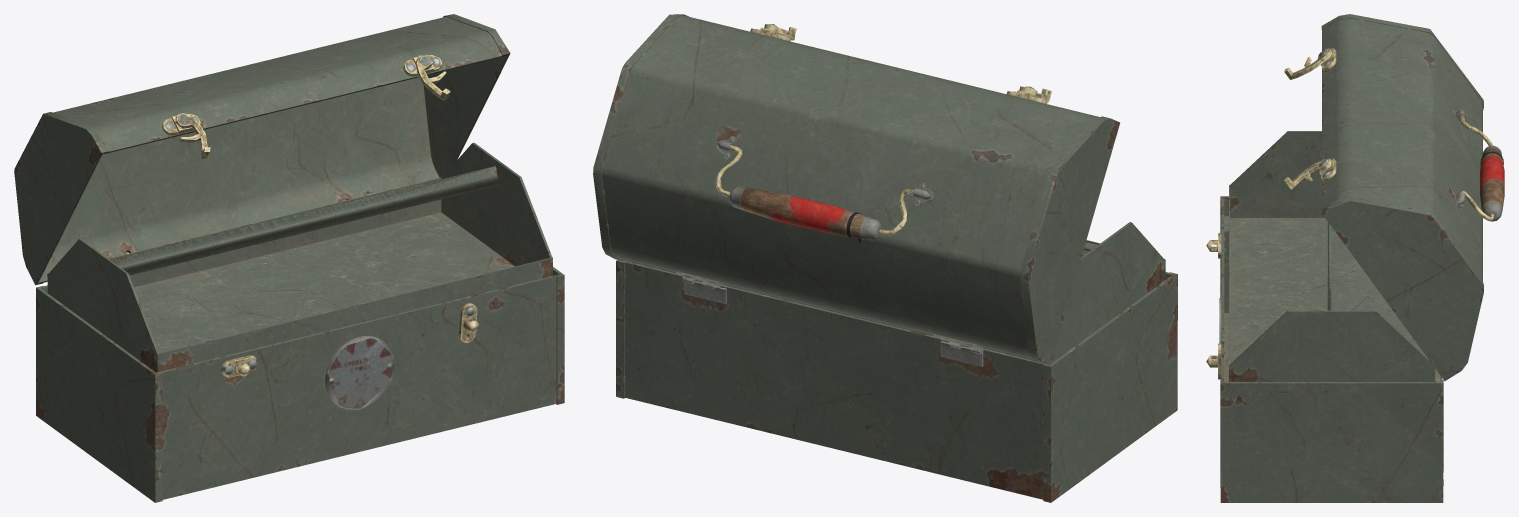
File: metal_toolbox.gltf
The picture shows the model from 3 angles, left to right: view 1: azimuth 30°, elevation 25°; view 2: azimuth 150°, elevation 25°; view 3: azimuth 270°, elevation 25°; orthographic projection. The views are drawn at different scales.
Parts seen in each view (by area): view 1: metal_toolbox_lid, metal_toolbox, metal_toolbox_tray; view 2: metal_toolbox_lid, metal_toolbox, metal_toolbox_tray, metal_toolbox_handle; view 3: metal_toolbox_lid, metal_toolbox_tray, metal_toolbox, metal_toolbox_handle, metal_toolbox_handle_latch_l, metal_toolbox_handle_latch_r.
Part boxes in pixels (x1,y1,x2,y2): metal_toolbox_lid: (14,14,510,285); metal_toolbox: (36,267,564,502); metal_toolbox_tray: (47,142,552,372); metal_toolbox_lid: (593,14,1119,365); metal_toolbox: (616,260,1177,502); metal_toolbox_tray: (628,222,1165,363); metal_toolbox_handle: (715,145,913,243); metal_toolbox_lid: (1319,14,1483,381); metal_toolbox_tray: (1229,131,1434,381); metal_toolbox: (1206,196,1443,502); metal_toolbox_handle: (1460,114,1504,221); metal_toolbox_handle_latch_l: (1284,48,1332,79); metal_toolbox_handle_latch_r: (1284,158,1331,189).
Bounding box in the file's own units: 0.4 × 0.3046 × 0.2702.
Materials: 1 (1 with a texture image).
